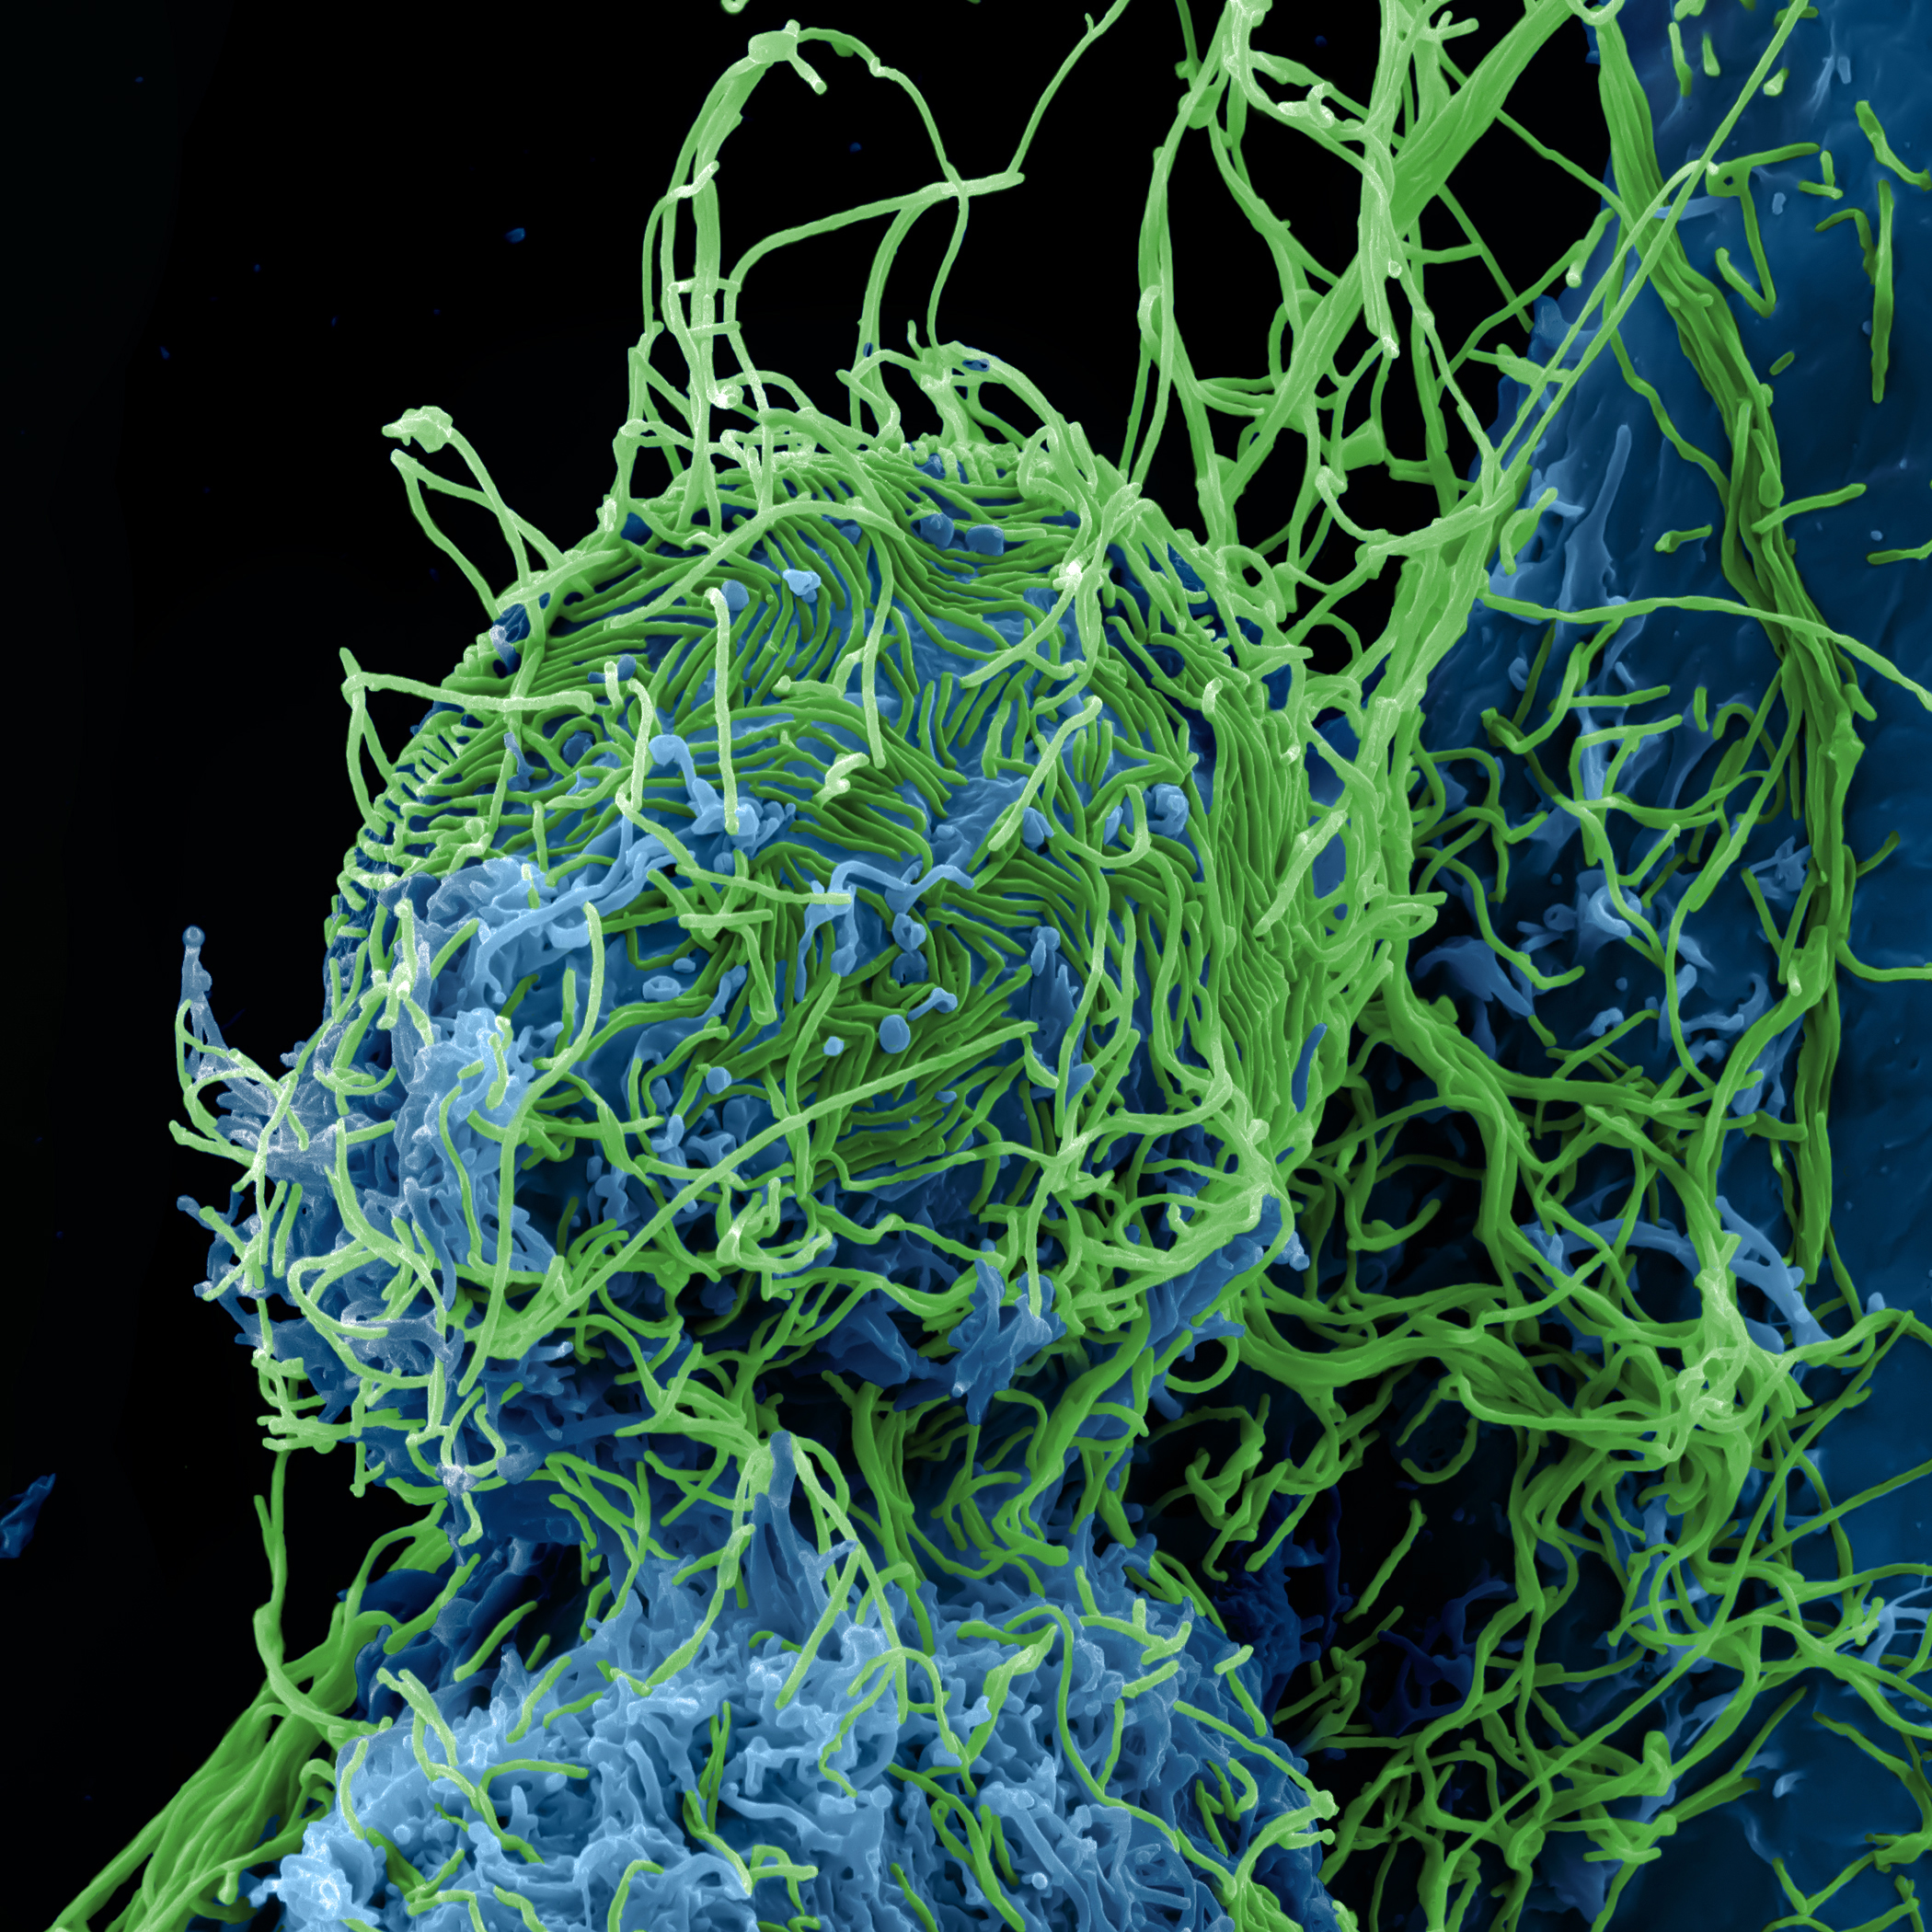COVID19: (156, 78, 1385, 1378)
